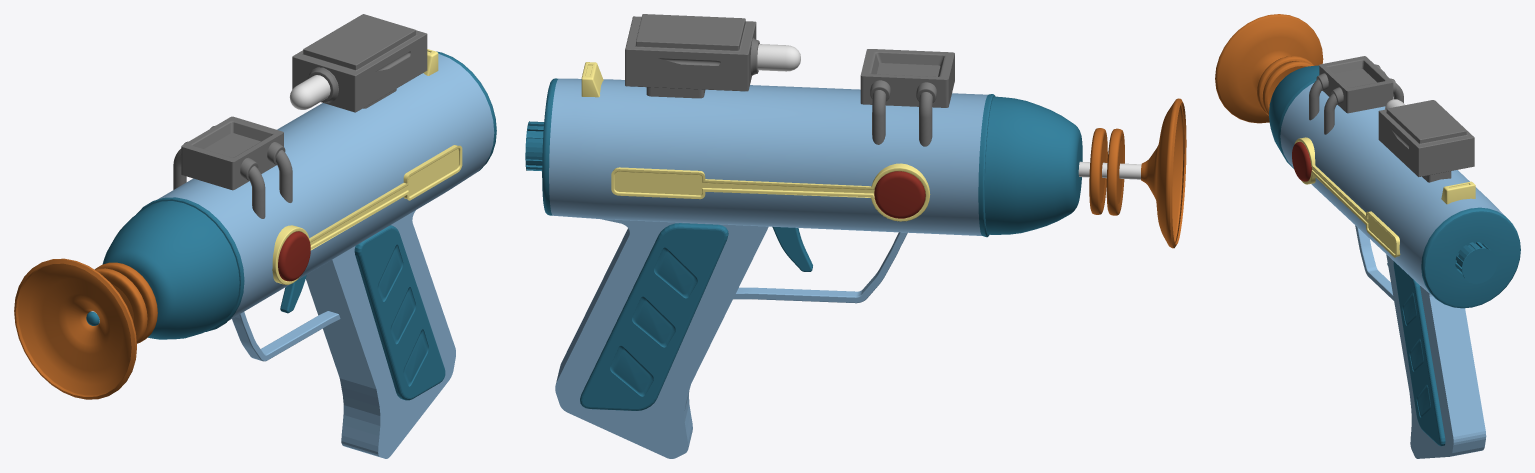
File: Laser Gun.fbx
The picture shows the model from 3 angles, left to right: view 1: azimuth 30°, elevation 25°; view 2: azimuth 150°, elevation 25°; view 3: azimuth 270°, elevation 25°; orthographic projection. The views are drawn at different scales.
Parts seen in each view (by area): view 1: Cylinder, Plane, Circle, Plane.005, Cube, Circle.001, Cube.001, Cylinder.001, Plane.002, Plane.003, Cylinder.003, Plane.001 (+1 smaller); view 2: Cylinder, Plane, Plane.005, Cube, Circle.001, Cube.001, Circle, Cylinder.001, Plane.002, Plane.003, Cylinder.003, Plane.001 (+1 smaller); view 3: Cylinder, Plane, Circle, Cube, Plane.005, Cube.001, Circle.001, Cylinder.001, Plane.003, Plane.002, Cube.002, Cylinder.002.
Boxes of the visible parts, x1=… form: Cylinder: x1=86, y1=51, x2=496, y2=339; Plane: x1=305, y1=210, x2=455, y2=458; Circle: x1=14, y1=258, x2=136, y2=399; Plane.005: x1=354, y1=225, x2=445, y2=400; Cube: x1=292, y1=14, x2=427, y2=112; Circle.001: x1=272, y1=145, x2=462, y2=284; Cube.001: x1=181, y1=116, x2=283, y2=190; Cylinder.001: x1=94, y1=262, x2=157, y2=343; Plane.002: x1=232, y1=311, x2=340, y2=361; Plane.003: x1=173, y1=148, x2=292, y2=218; Cylinder.003: x1=289, y1=67, x2=338, y2=109; Plane.001: x1=280, y1=275, x2=306, y2=313; Cylinder: x1=525, y1=78, x2=1141, y2=237; Plane: x1=555, y1=219, x2=768, y2=458; Plane.005: x1=580, y1=223, x2=728, y2=410; Cube: x1=625, y1=14, x2=756, y2=98; Circle.001: x1=611, y1=163, x2=930, y2=221; Cube.001: x1=860, y1=49, x2=954, y2=107; Circle: x1=1141, y1=98, x2=1186, y2=248; Cylinder.001: x1=1089, y1=128, x2=1124, y2=215; Plane.002: x1=733, y1=232, x2=907, y2=303; Plane.003: x1=872, y1=90, x2=932, y2=146; Cylinder.003: x1=750, y1=38, x2=800, y2=75; Plane.001: x1=772, y1=226, x2=812, y2=271; Cylinder: x1=1269, y1=65, x2=1520, y2=308; Plane: x1=1386, y1=254, x2=1486, y2=458; Circle: x1=1215, y1=14, x2=1323, y2=123; Cube: x1=1378, y1=100, x2=1474, y2=182; Plane.005: x1=1393, y1=261, x2=1445, y2=446; Cube.001: x1=1319, y1=56, x2=1393, y2=113; Circle.001: x1=1292, y1=137, x2=1400, y2=257; Cylinder.001: x1=1257, y1=56, x2=1314, y2=115; Plane.003: x1=1309, y1=69, x2=1403, y2=134; Plane.002: x1=1355, y1=225, x2=1393, y2=300; Cube.002: x1=1441, y1=181, x2=1475, y2=204; Cylinder.002: x1=1316, y1=64, x2=1396, y2=104.
Bounding box in the file's own units: 474 × 346 × 290.
